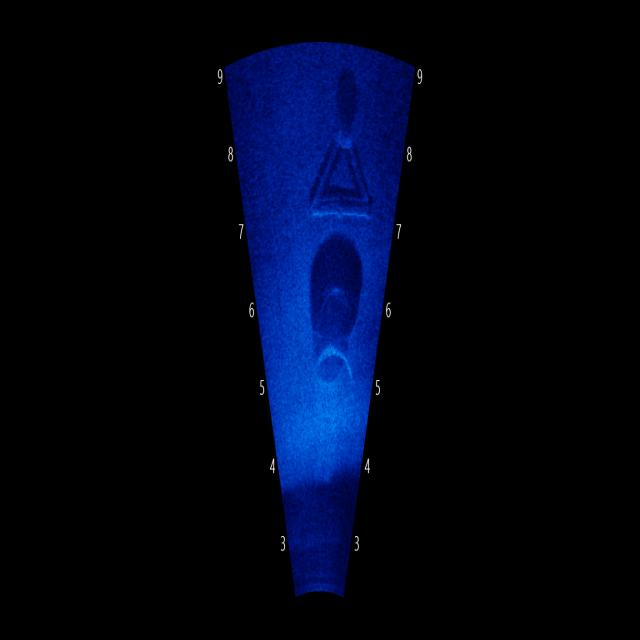circle: (304, 316, 358, 454)
triangle: (289, 90, 378, 242)
